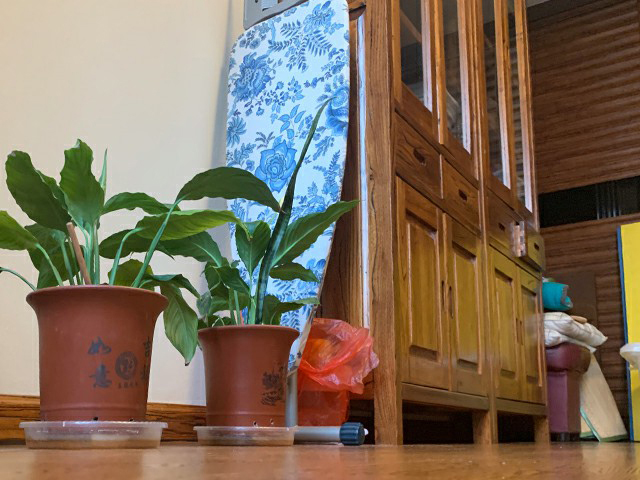cabinet: (245, 1, 553, 445)
